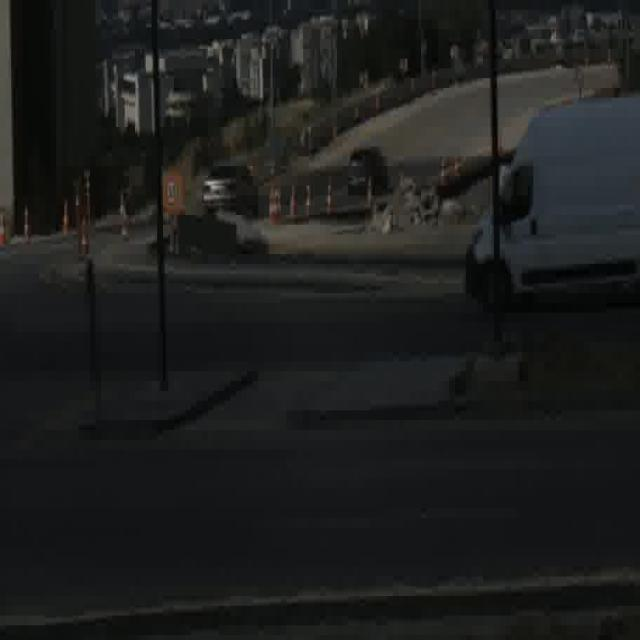Car: (465, 94, 640, 314), (203, 164, 259, 226), (348, 146, 390, 196)
